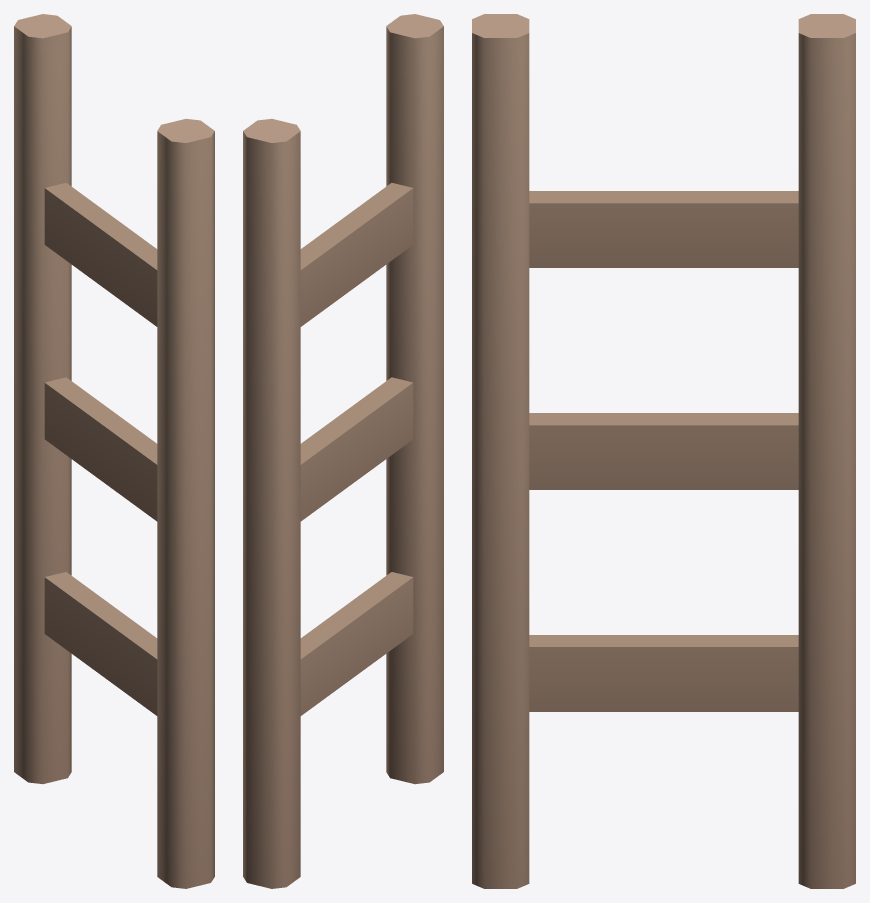
File: ladder-short.glb
The picture shows the model from 3 angles, left to right: view 1: azimuth 30°, elevation 25°; view 2: azimuth 150°, elevation 25°; view 3: azimuth 270°, elevation 25°; orthographic projection. The views are drawn at different scales.
Parts seen in each view (by area): view 1: ladder-short; view 2: ladder-short; view 3: ladder-short.
Boxes of the visible parts, x1,y1,x2,y2 form: ladder-short: (14, 14, 214, 888); ladder-short: (243, 14, 443, 888); ladder-short: (472, 14, 855, 888).
Size of the model in its own units: 0.07 by 1.15 by 0.47.
